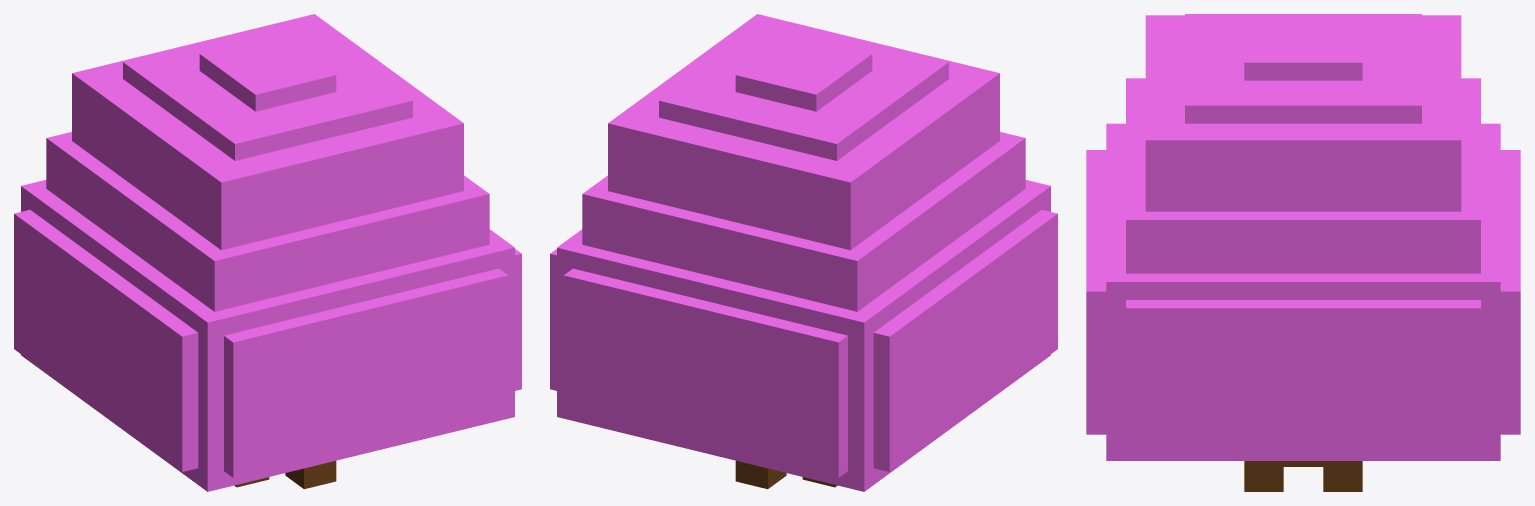
Rendered from Magnolia_Tree(1) (Stage 5).obj.
The picture shows the model from 3 angles, left to right: view 1: azimuth 30°, elevation 25°; view 2: azimuth 150°, elevation 25°; view 3: azimuth 270°, elevation 25°; orthographic projection. The views are drawn at different scales.
Bounding box in the file's own units: 2.1 × 2.4 × 2.2.
Materials: 1 (1 with a texture image).
